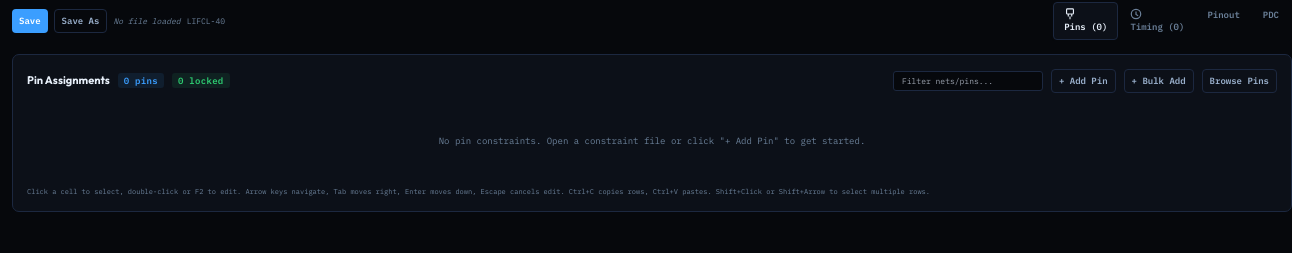
Test: ConstraintEditor › switches to timing tab when clicked
This screenshot has width=1292, height=253.
The timing tab text is rendered as a composite with icon + text
Step 1. Click the text "Timing (0)" → (1157, 20), box [1130,8,1184,32]
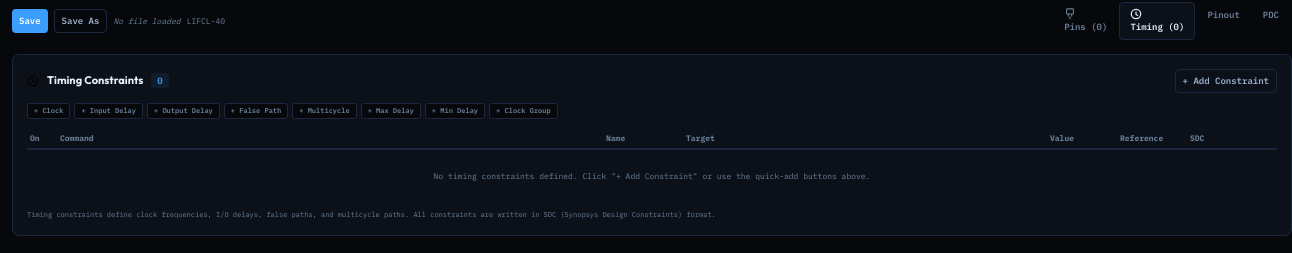
Expected: the text "Timing Constraints" is shown, [47,72,143,89]
